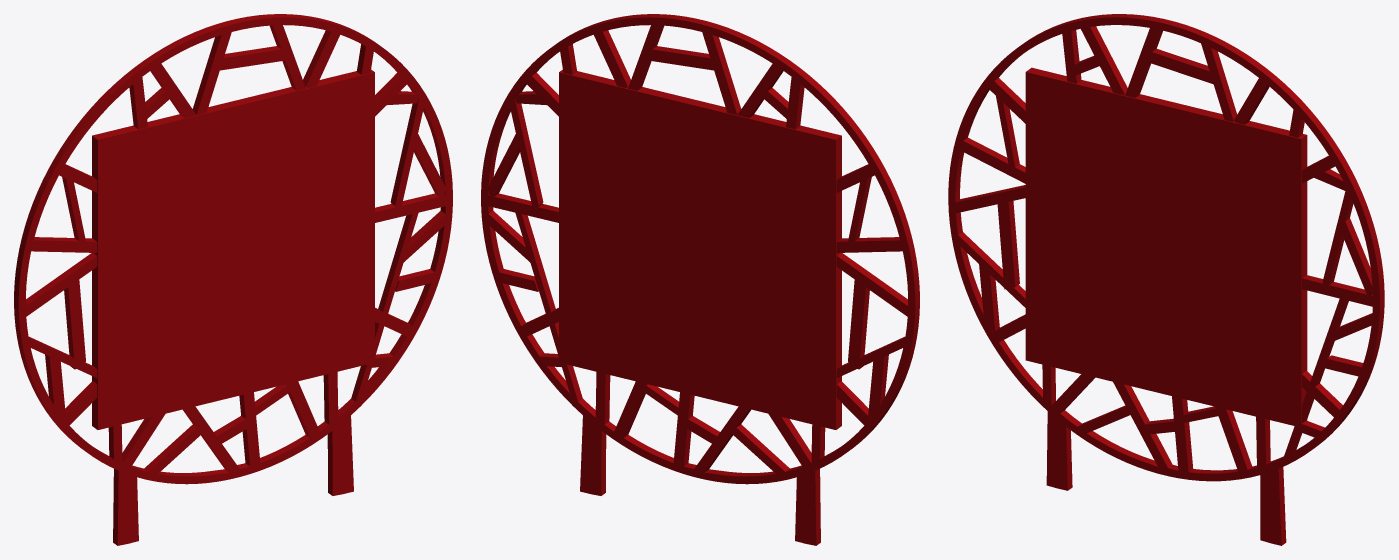
Rendered from sculpture.gltf.
The picture shows the model from 3 angles, left to right: view 1: azimuth 30°, elevation 25°; view 2: azimuth 150°, elevation 25°; view 3: azimuth 330°, elevation 25°; orthographic projection.
Visible parts, largest first — view 1: 柱体; view 2: 柱体; view 3: 柱体.
Boxes of the visible parts, x1,y1,x2,y2 form: 柱体: (14,14,452,545); 柱体: (481,14,919,545); 柱体: (948,14,1384,545).
Size of the model in its own units: 1.6 by 1.75 by 0.0383.
